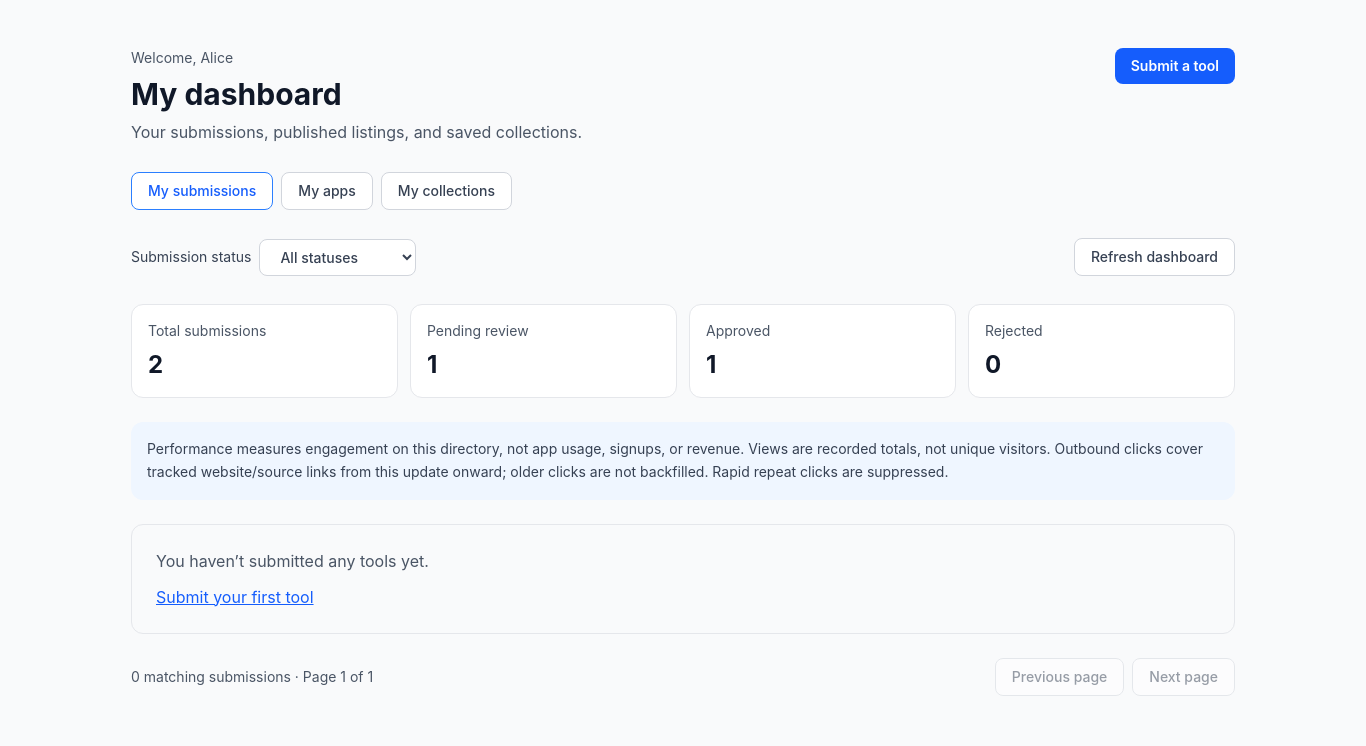
Test: shows empty and unrated states without inventing a zero-star rating
Expected: the text "You haven’t submitted any tools yet." is shown, [156,550,429,570]
What coordinates should you click on to do the following:
click the button "Refresh dashboard"
I would click on:
 (1154, 257)
Its box is [1074,238,1235,276].
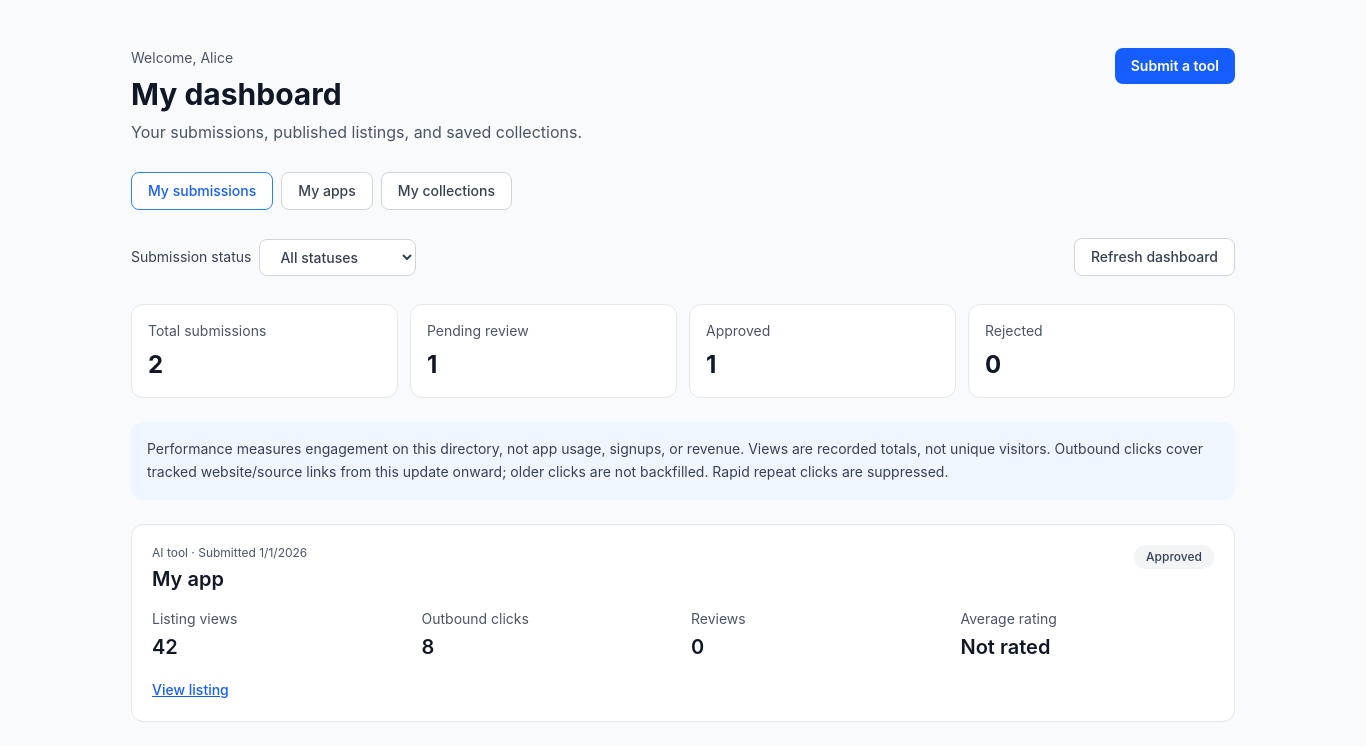
Expected: the text "Not rated" is shown, [960,634,1050,658]
